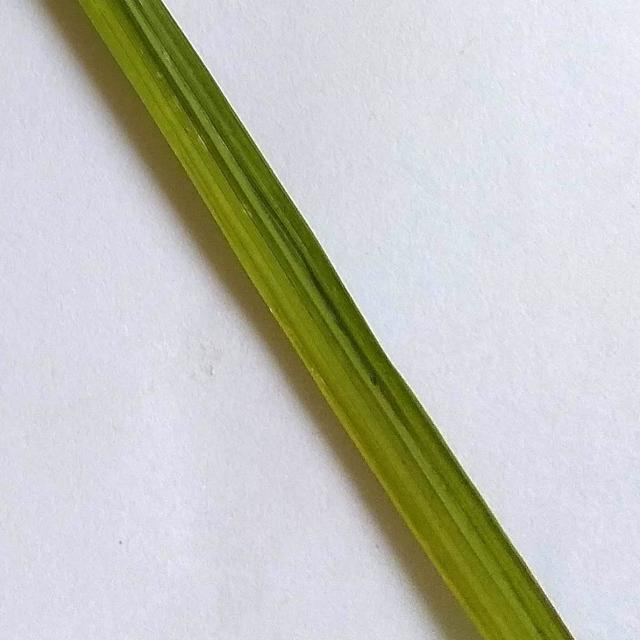Rice_Healthy: (79, 0, 573, 639)
